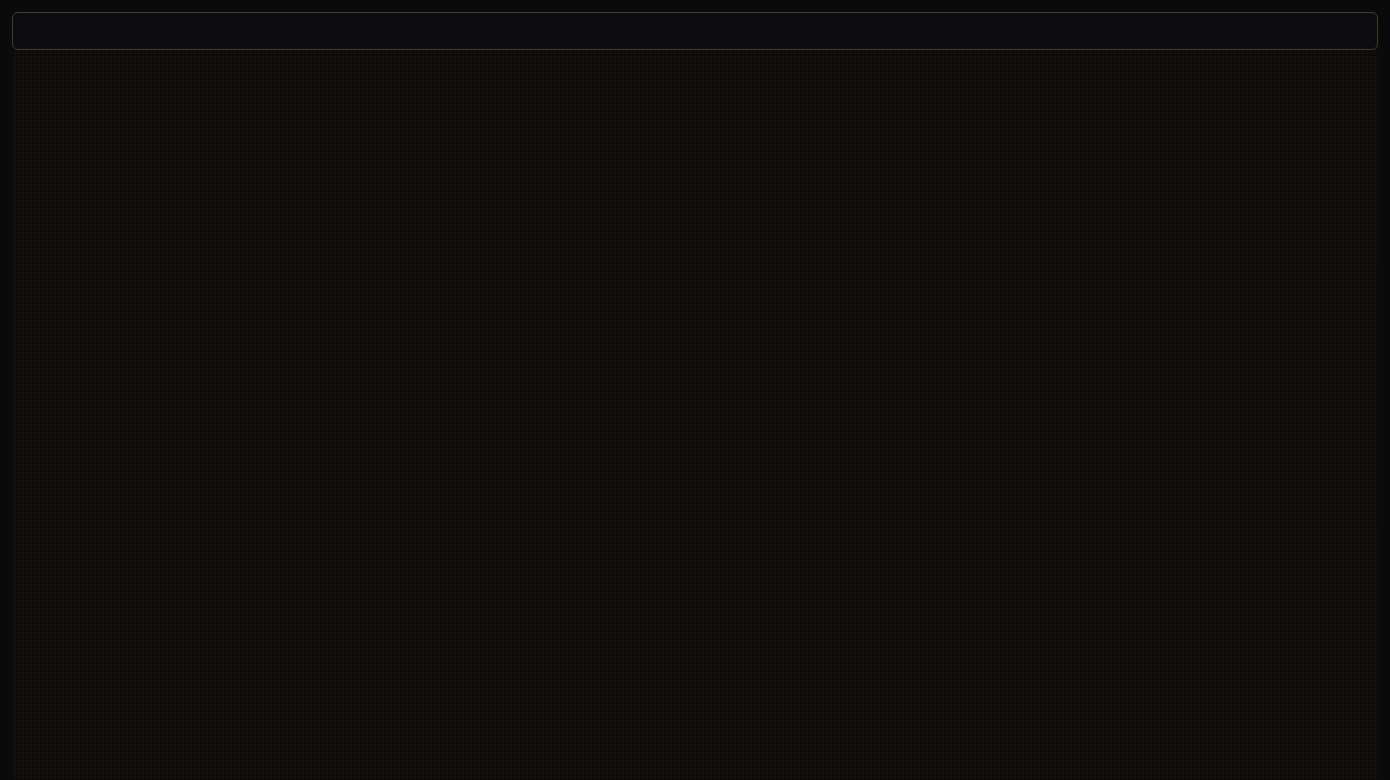
Scenario: LabeledInput › clears the error once the value becomes valid
Click the field named "X label": (695, 31) [12,12,1378,50]
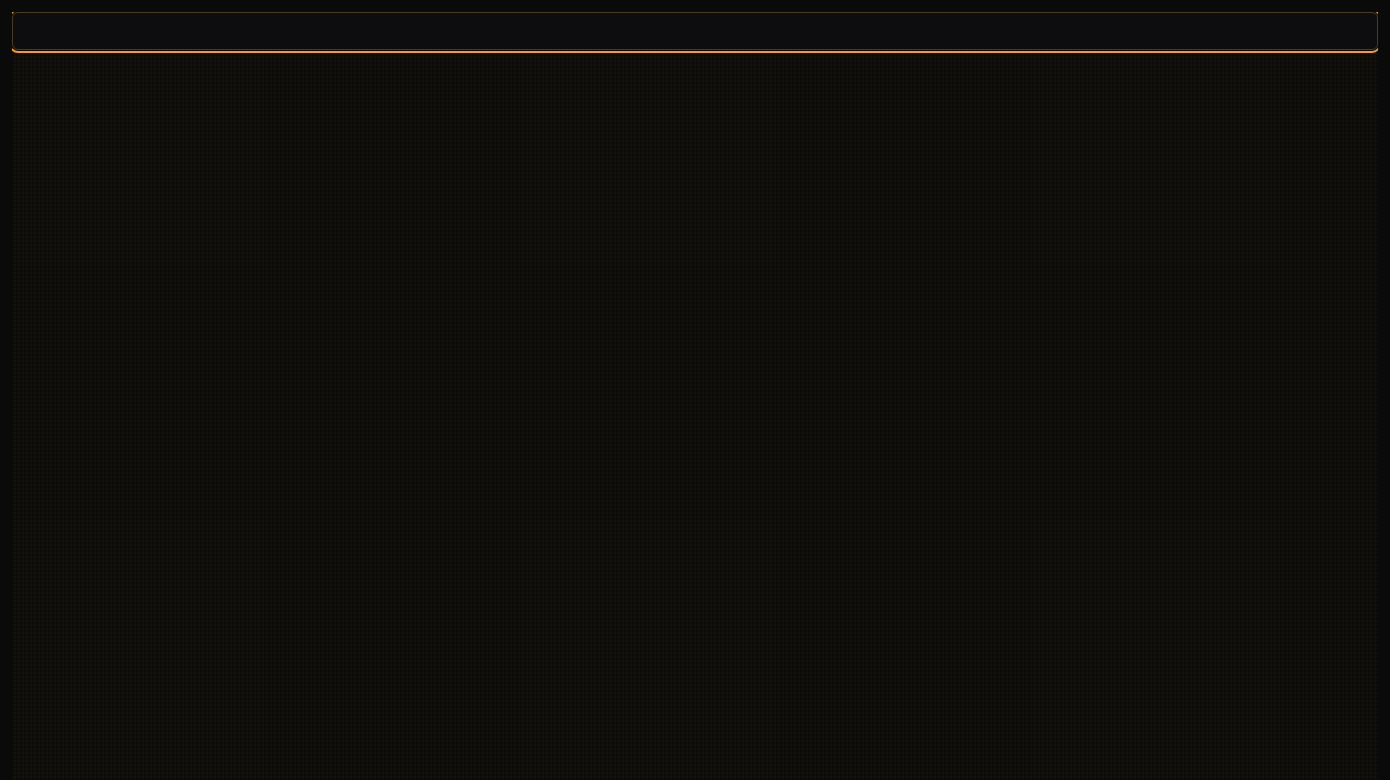
Press Tab
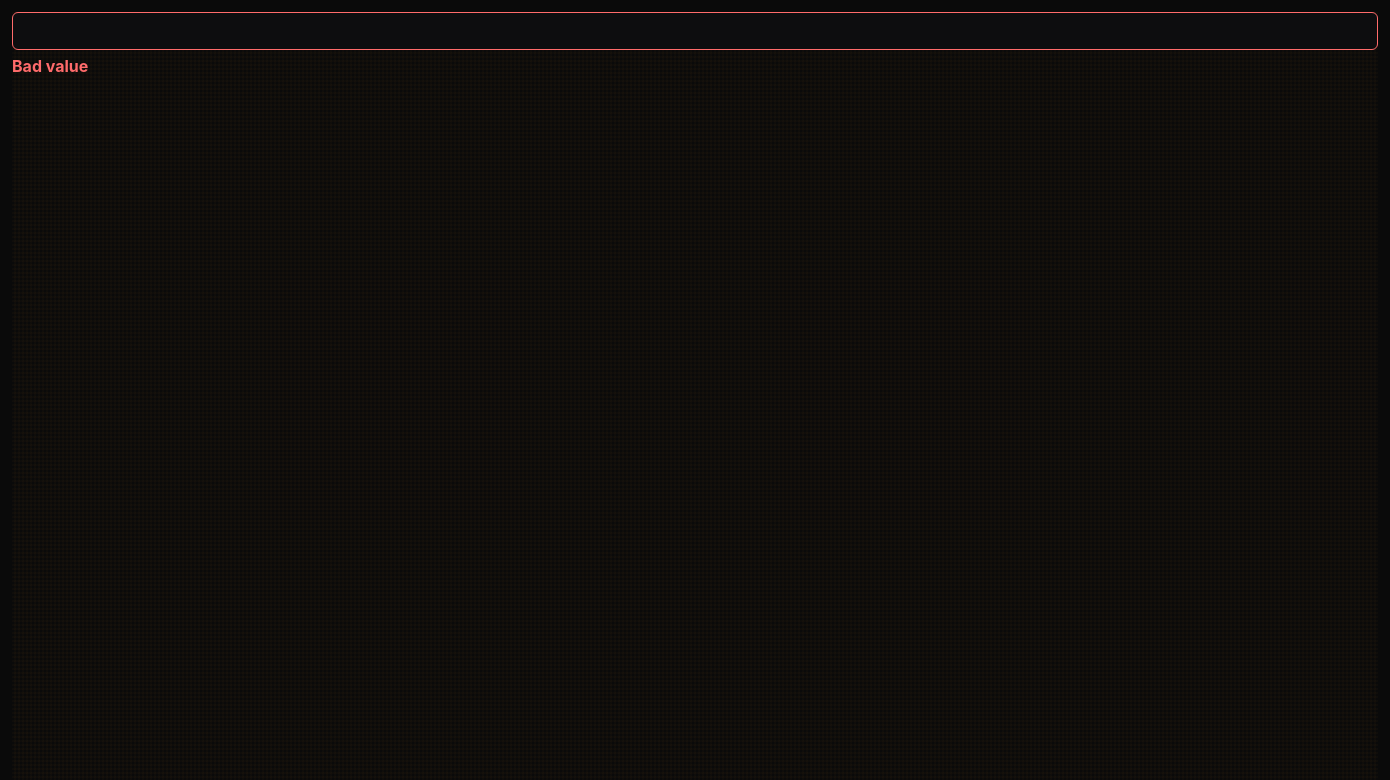
expect the text "Bad value" is shown: met, box [12,56,88,76]
Click the field named "X label": (695, 31) [12,12,1378,50]
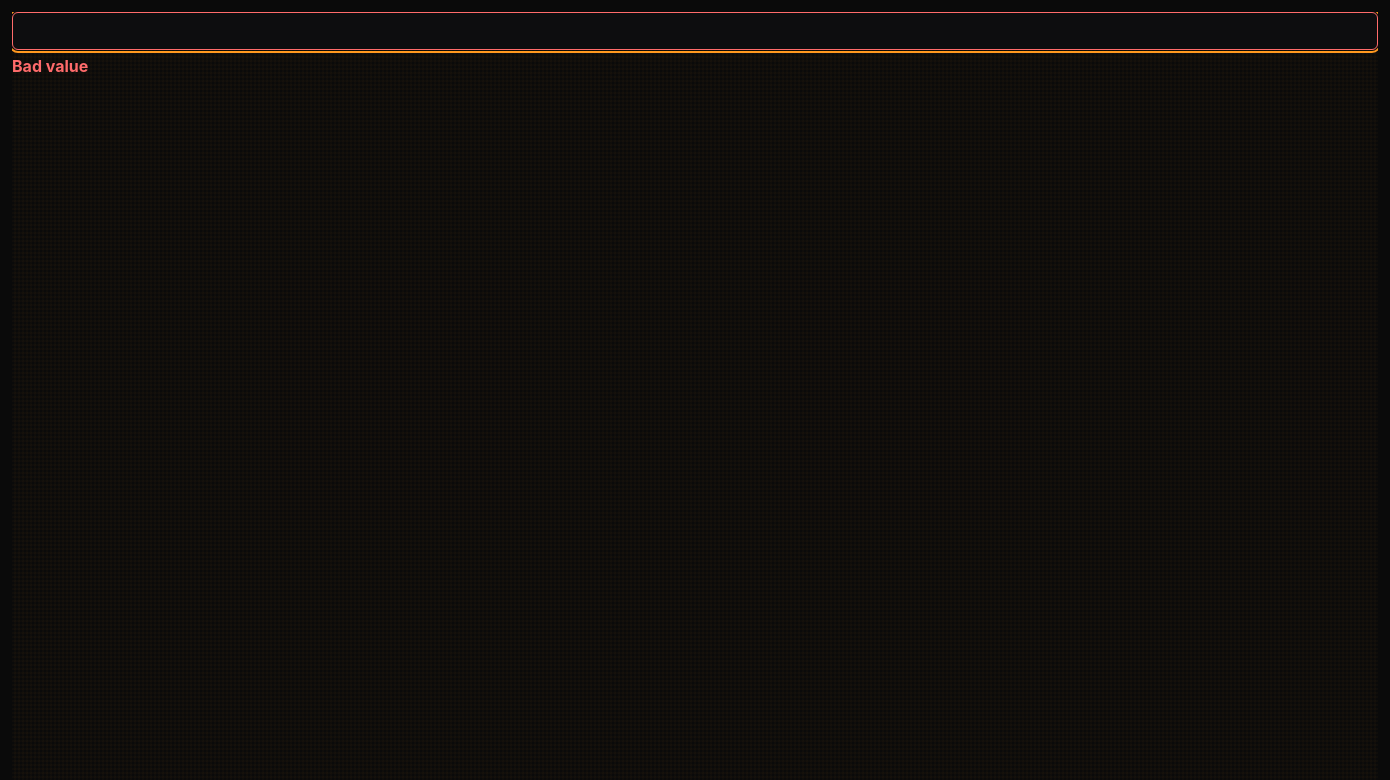
Press Tab
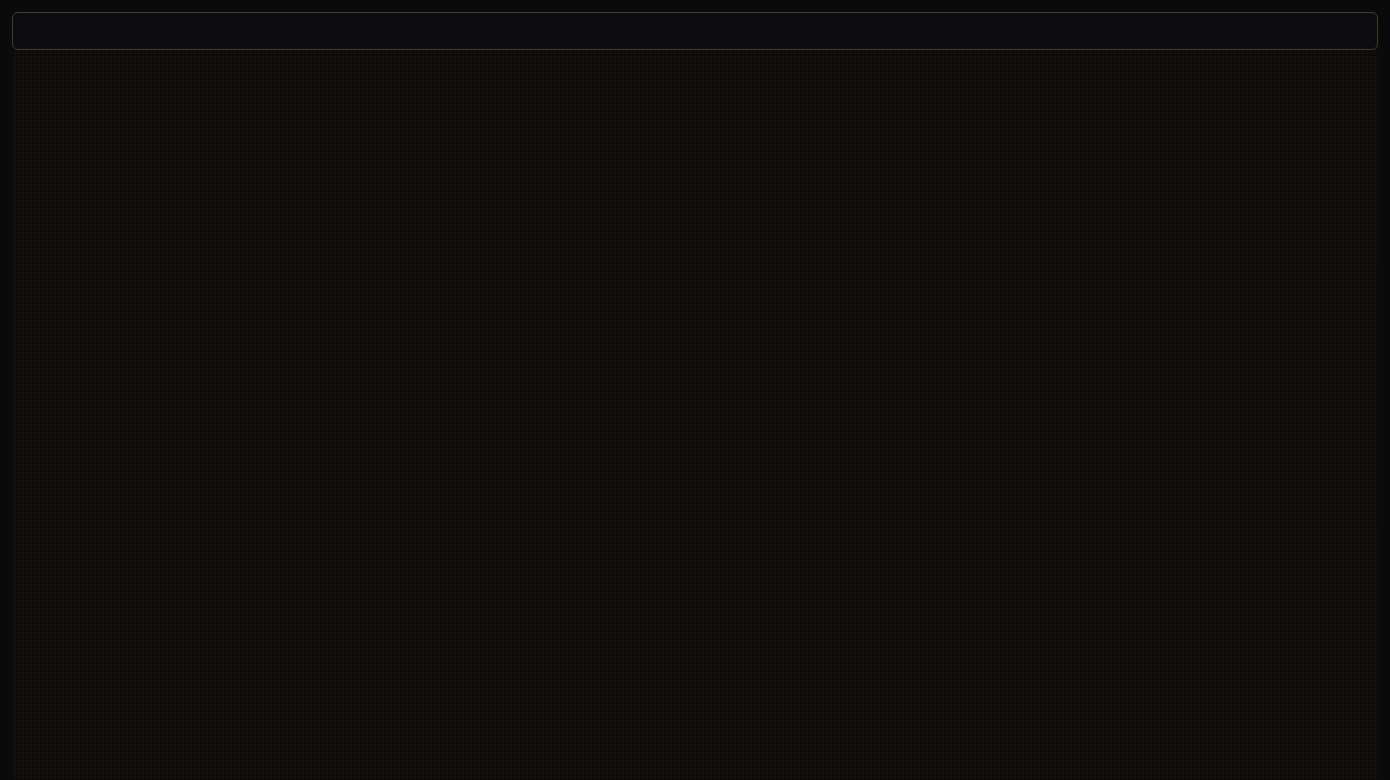
expect the text "Bad value" is gone: met
